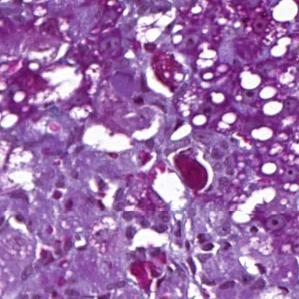ballooning: (133, 7, 180, 45)
